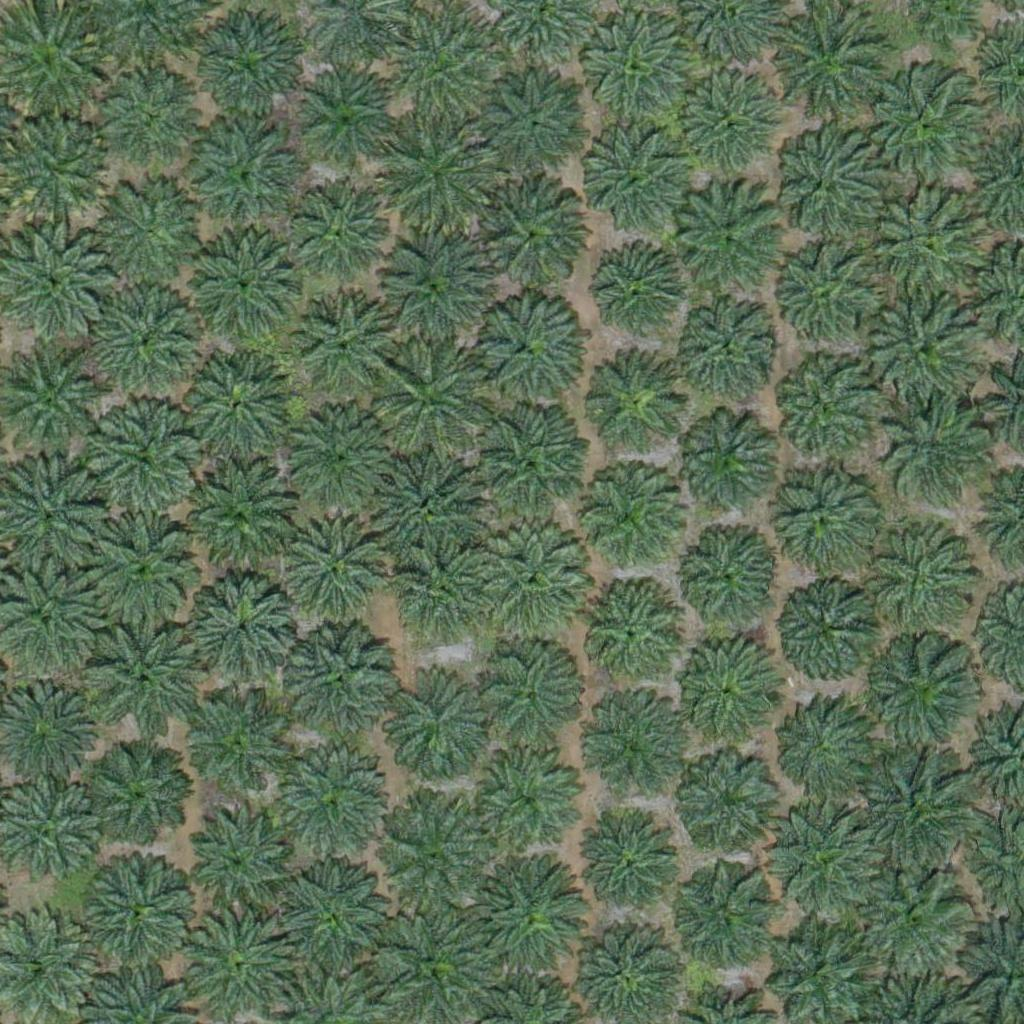Kelapa_Sawit: (465, 523, 590, 649), (579, 13, 692, 127), (473, 68, 586, 182), (766, 457, 879, 571), (475, 745, 588, 859), (379, 667, 492, 781), (468, 858, 581, 972), (180, 907, 293, 1021), (192, 15, 305, 128), (870, 67, 983, 180), (671, 183, 784, 296), (377, 337, 490, 450), (369, 450, 482, 563), (278, 515, 391, 628), (182, 226, 295, 339), (84, 513, 197, 626), (770, 804, 883, 917), (376, 802, 489, 915), (189, 807, 302, 920), (82, 853, 195, 966), (88, 628, 201, 741), (855, 864, 968, 977), (473, 176, 585, 290), (468, 289, 580, 403), (382, 115, 494, 229), (473, 634, 585, 748), (285, 622, 397, 736), (381, 15, 493, 128), (769, 12, 881, 125), (875, 192, 987, 305), (871, 294, 983, 407), (868, 520, 980, 633), (770, 123, 882, 236), (768, 233, 880, 346), (578, 583, 690, 696), (575, 463, 687, 576), (473, 401, 585, 514), (375, 234, 487, 347), (178, 347, 290, 460), (185, 465, 297, 578), (91, 174, 203, 287), (92, 284, 204, 397), (90, 400, 202, 513), (188, 578, 300, 691), (858, 748, 970, 861), (572, 692, 684, 805), (180, 695, 292, 808), (276, 756, 388, 869), (280, 858, 392, 971), (870, 635, 982, 748), (294, 71, 394, 172), (880, 401, 980, 502), (776, 356, 876, 457), (587, 130, 687, 231), (287, 182, 387, 283), (291, 289, 391, 390), (289, 406, 389, 507), (195, 124, 295, 225), (98, 67, 198, 168), (4, 117, 104, 218), (775, 698, 875, 799), (675, 638, 775, 739), (681, 748, 781, 849), (90, 745, 190, 846), (670, 870, 770, 971), (682, 74, 782, 174), (787, 578, 887, 678), (682, 302, 782, 402), (676, 411, 776, 511), (677, 530, 777, 630), (591, 244, 691, 344), (592, 354, 692, 454), (583, 819, 683, 919), (398, 554, 473, 629)
